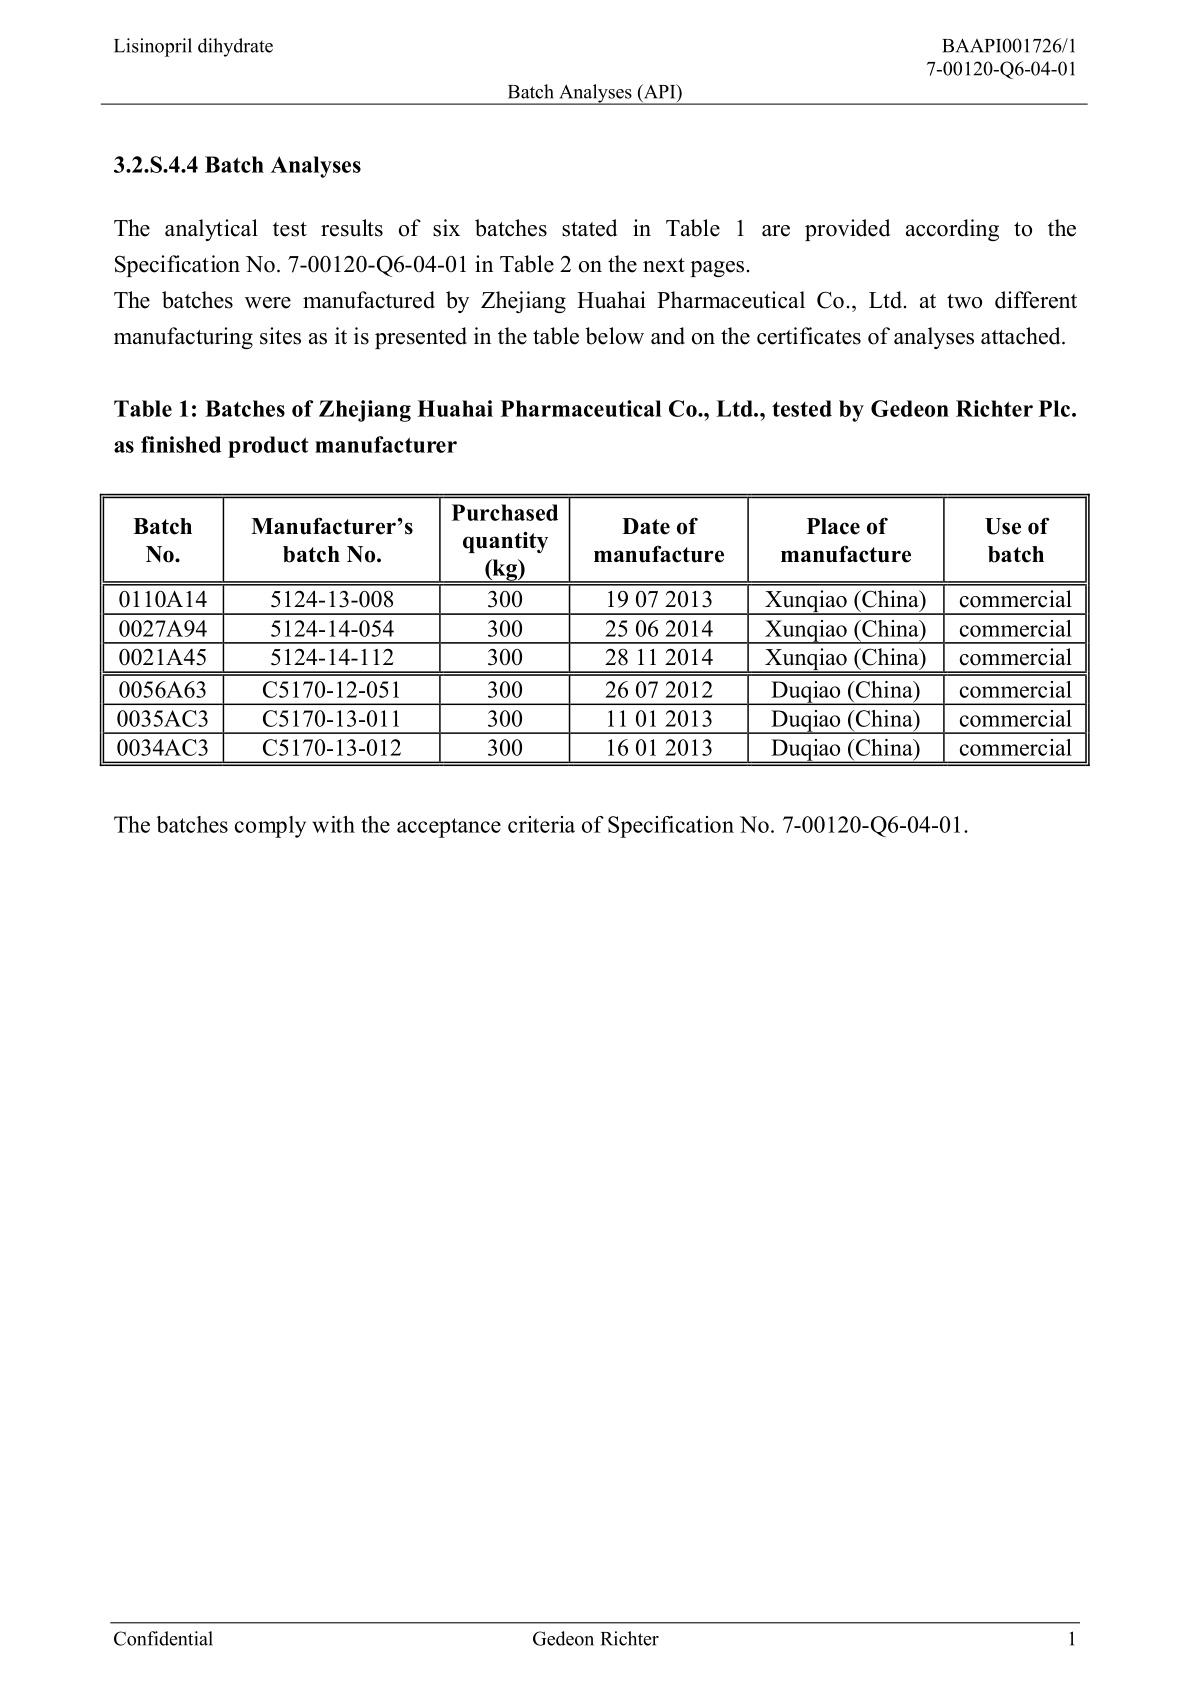full_lined: (98, 493, 1090, 768)
